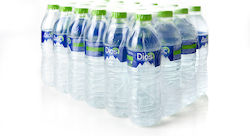PlasticBottle: (129, 14, 158, 126)
